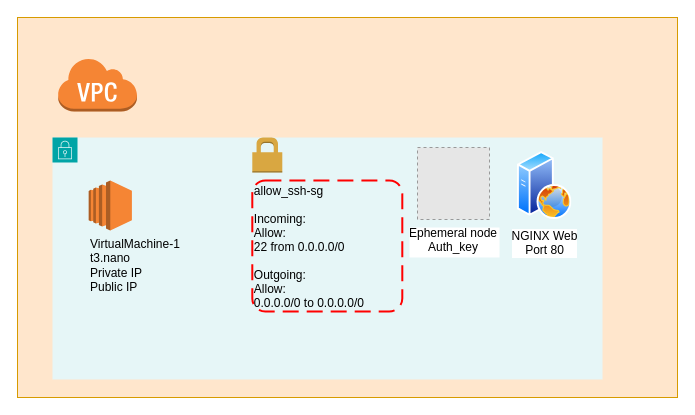
This 695x415 diagram has some shape labels left out. Grey dashed boxes stand in for pictures. The box of each missing label's shape, as (x1, y1, x2, y2) in pixels:
Default: (56, 56, 137, 112)
Default Private subnet: 172.31.16.0/20: (52, 136, 602, 380)
